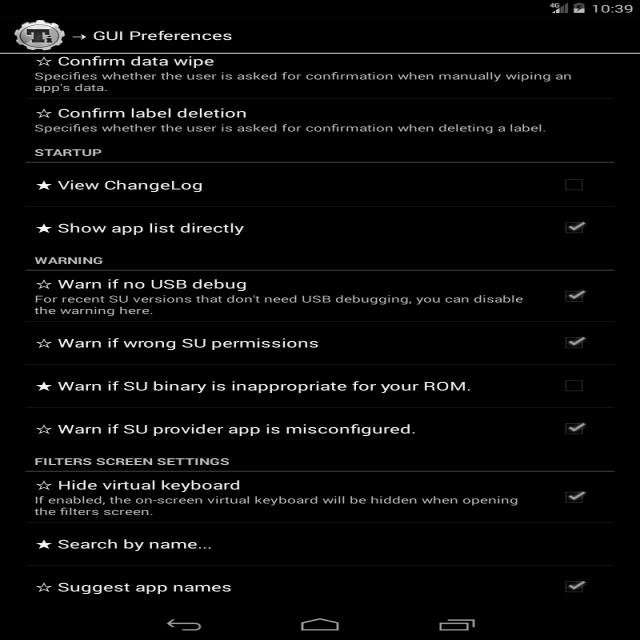ImageView: (14, 20, 69, 54)
TextView: (35, 272, 525, 318), (29, 55, 578, 91), (32, 477, 524, 517), (26, 103, 552, 133), (29, 419, 429, 447), (26, 329, 324, 353), (34, 376, 478, 392), (26, 171, 209, 194), (32, 576, 234, 596), (26, 453, 240, 471), (32, 537, 223, 553), (37, 221, 247, 235), (82, 27, 247, 43), (30, 251, 108, 267), (27, 144, 102, 160)
